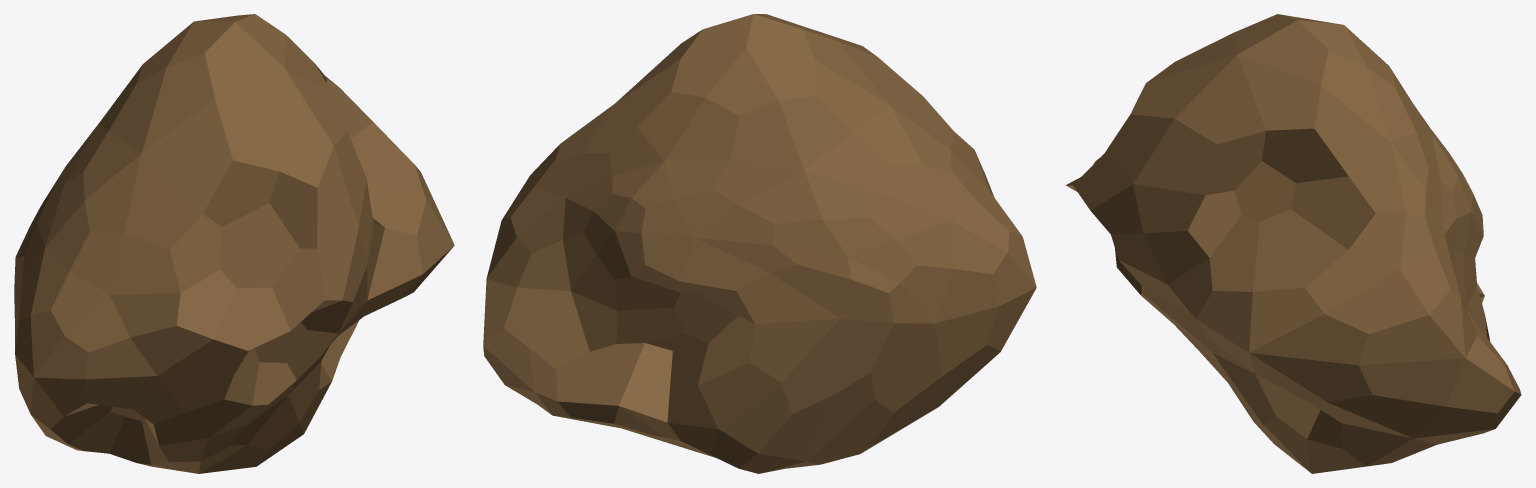
File: Asteroide_2.fbx
3 views of the same model, side by side, from view 1: azimuth 30°, elevation 25°; view 2: azimuth 150°, elevation 25°; view 3: azimuth 270°, elevation 25° (orthographic). The views are drawn at different scales.
Visible parts, largest first — view 1: ASteroide_4; view 2: ASteroide_4; view 3: ASteroide_4.
Boxes of the visible parts, <box> form: ASteroide_4: <box>14,14,454,473</box>; ASteroide_4: <box>483,14,1036,473</box>; ASteroide_4: <box>1065,14,1521,473</box>.
Size of the model in its own units: 1386 by 1293 by 1248.
